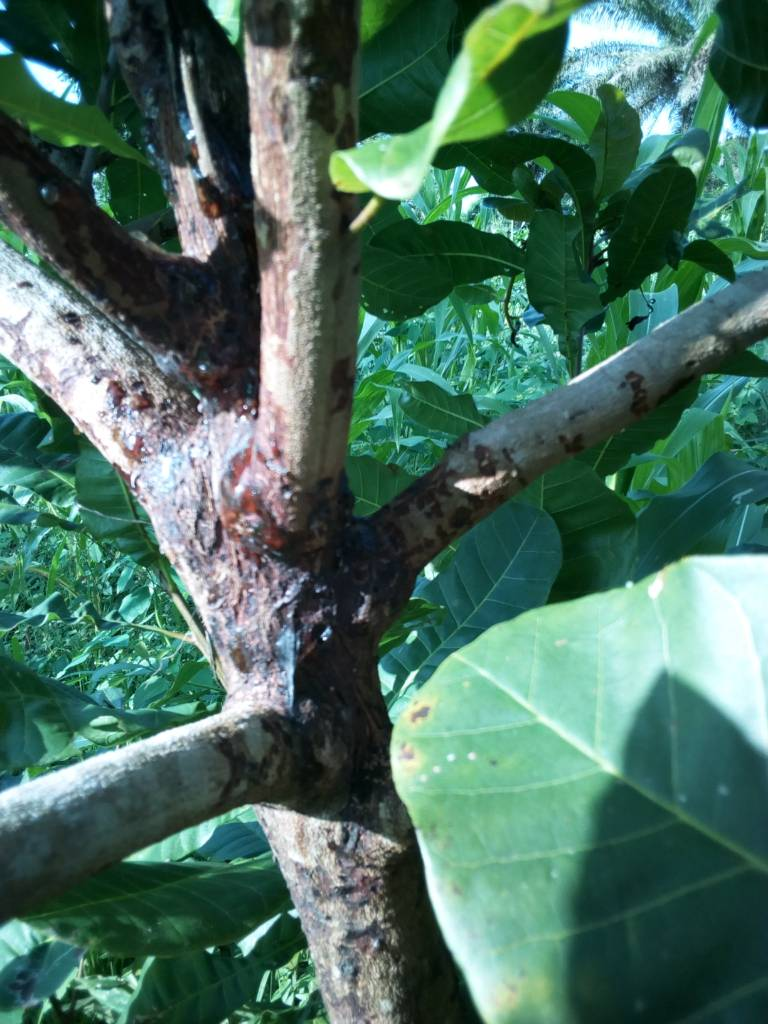Mecocorynus longiceps: (196, 431, 355, 599)
